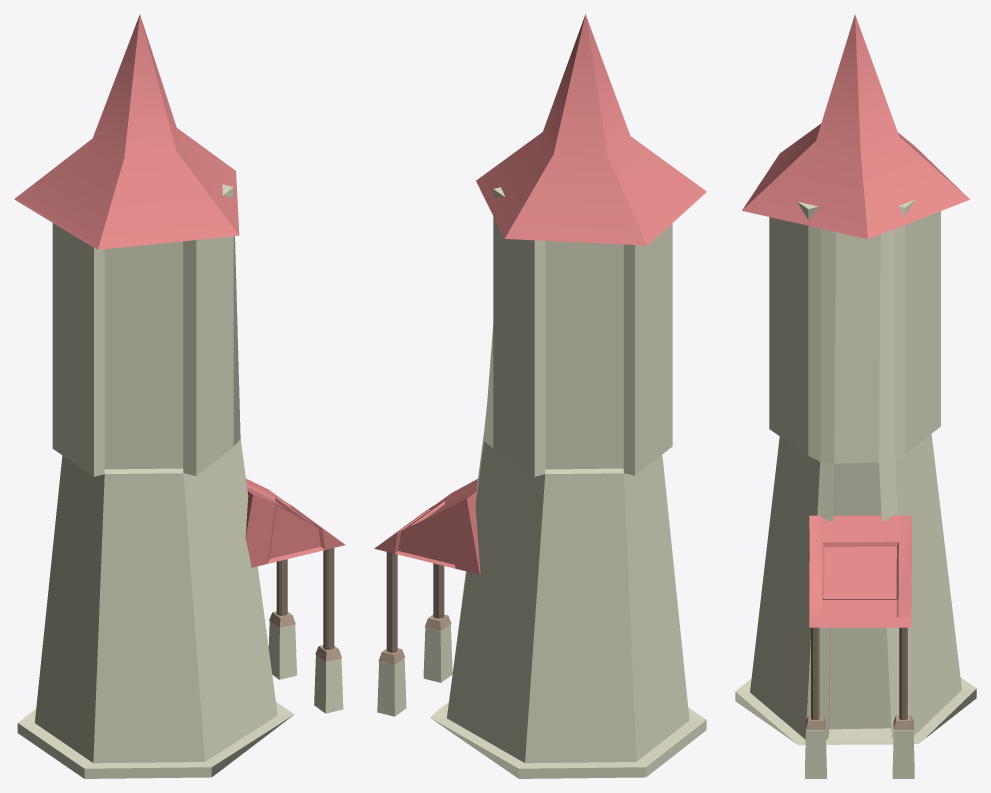
File: Windmill_Part.fbx
3 renders of one model, left to right at view 1: azimuth 30°, elevation 25°; view 2: azimuth 150°, elevation 25°; view 3: azimuth 270°, elevation 25°, orthographic. The views are drawn at different scales.
Parts seen in each view (by area): view 1: pCylinder1; view 2: pCylinder1; view 3: pCylinder1.
Part boxes in pixels (x1=…): pCylinder1: x1=14, y1=14, x2=345, y2=778; pCylinder1: x1=374, y1=14, x2=706, y2=778; pCylinder1: x1=735, y1=14, x2=976, y2=778.
Bounding box in the file's own units: 580 × 1447 × 464.
